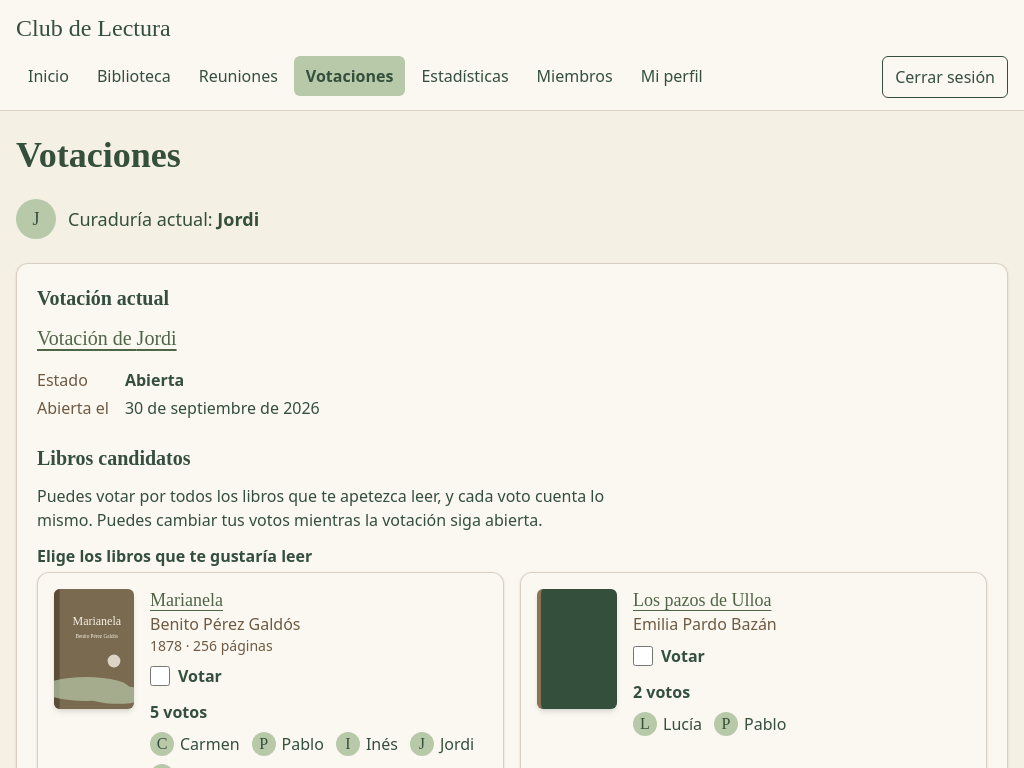
Test: Votaciones › lets the user vote on the current vote
Click the checkbox named "Votar por «Marianela»": coordinates (160, 676) [150, 666, 170, 686]
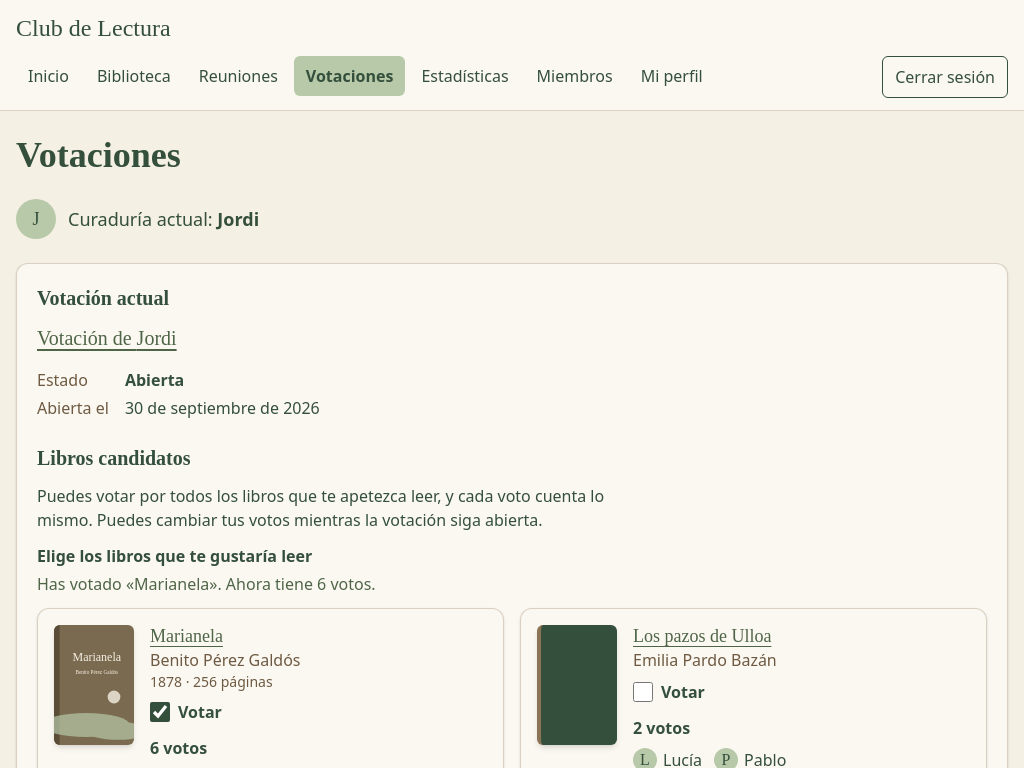
Expected: the element "Votación actual" shows "6 votos", [150, 736, 207, 758]
Expected: the message reads "Has votado «Marianela». Ahora tiene 6 votos.", [37, 573, 376, 595]
